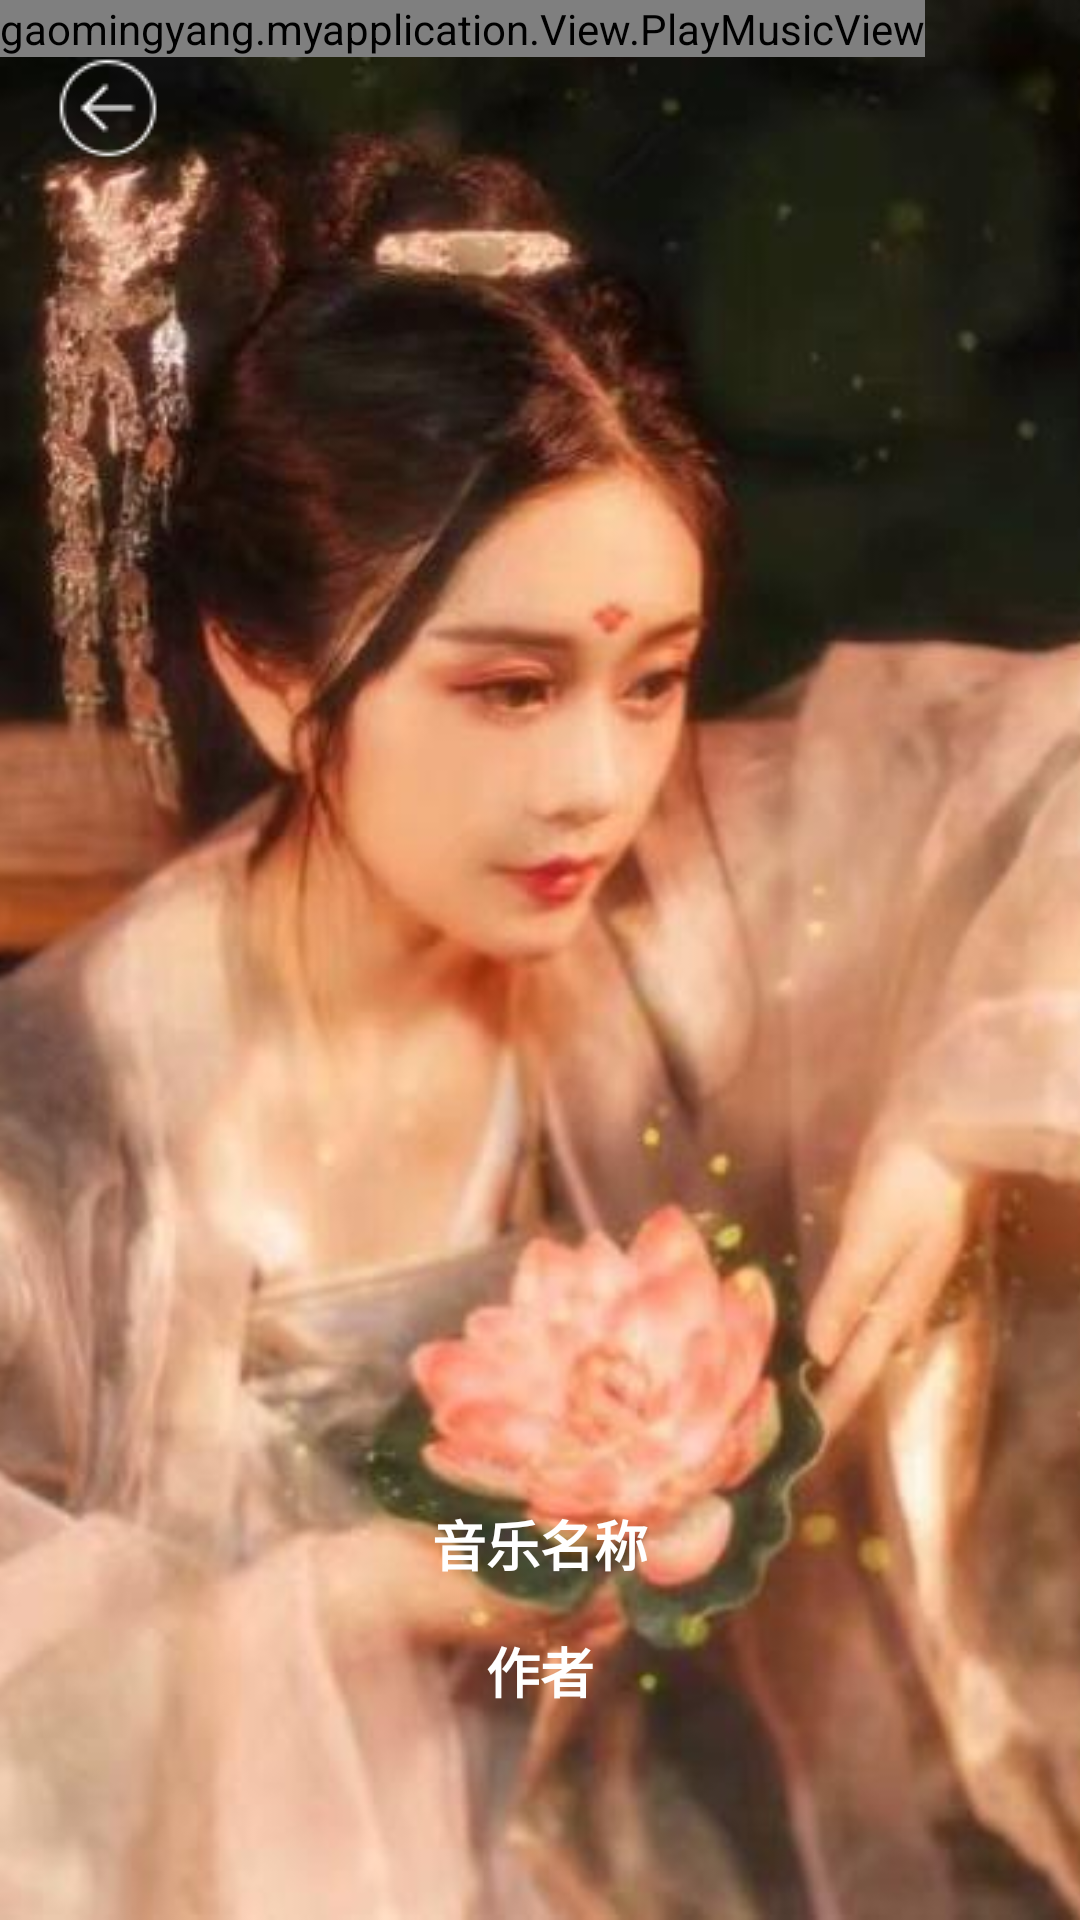

Point at icon controls on the screen. Image size 1080w x 1920h, points as [x,y].
no bar back: [108,108]
